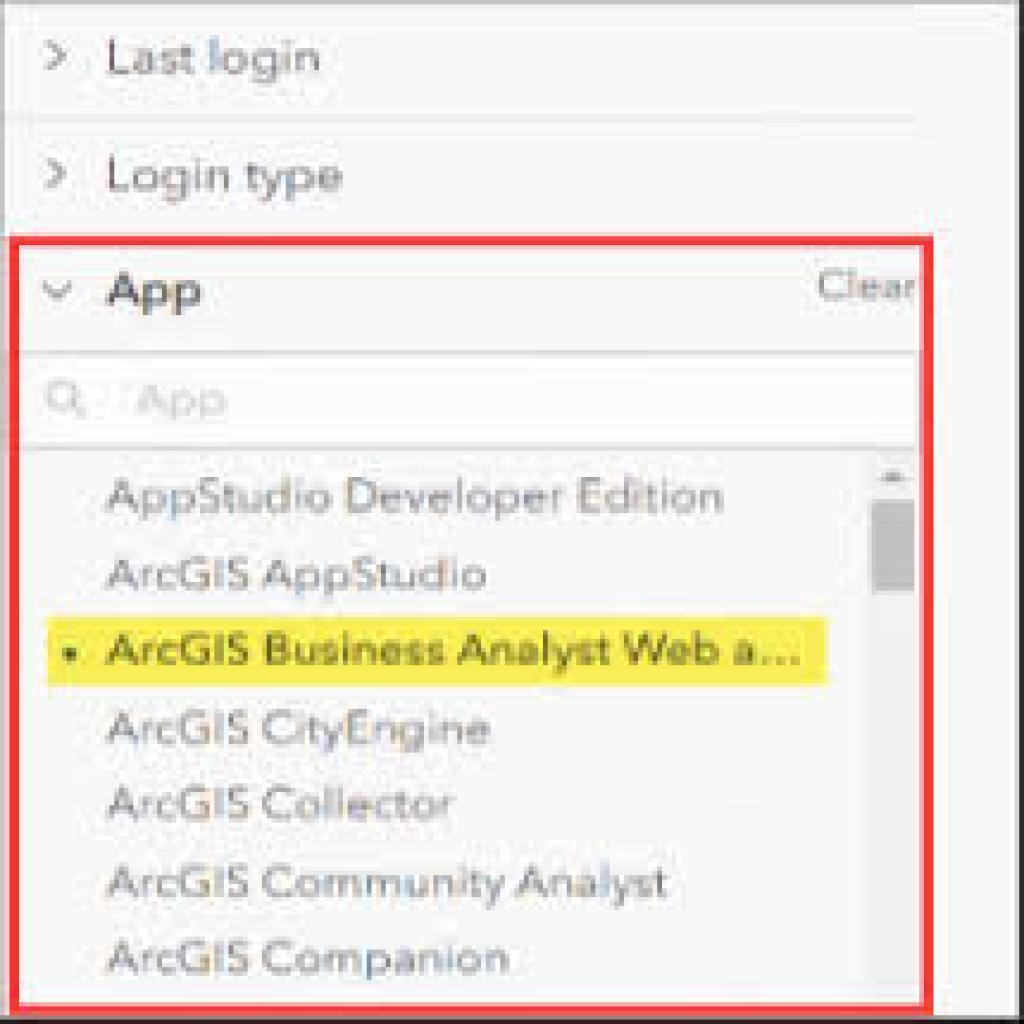dropdown: (15, 244, 921, 352)
icon: (38, 363, 94, 427)
input: (18, 353, 922, 446)
